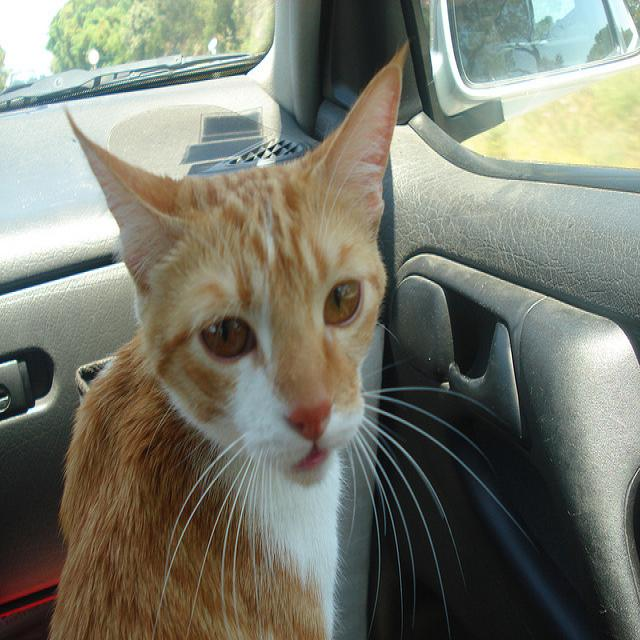Vehicle: (4, 31, 640, 634)
